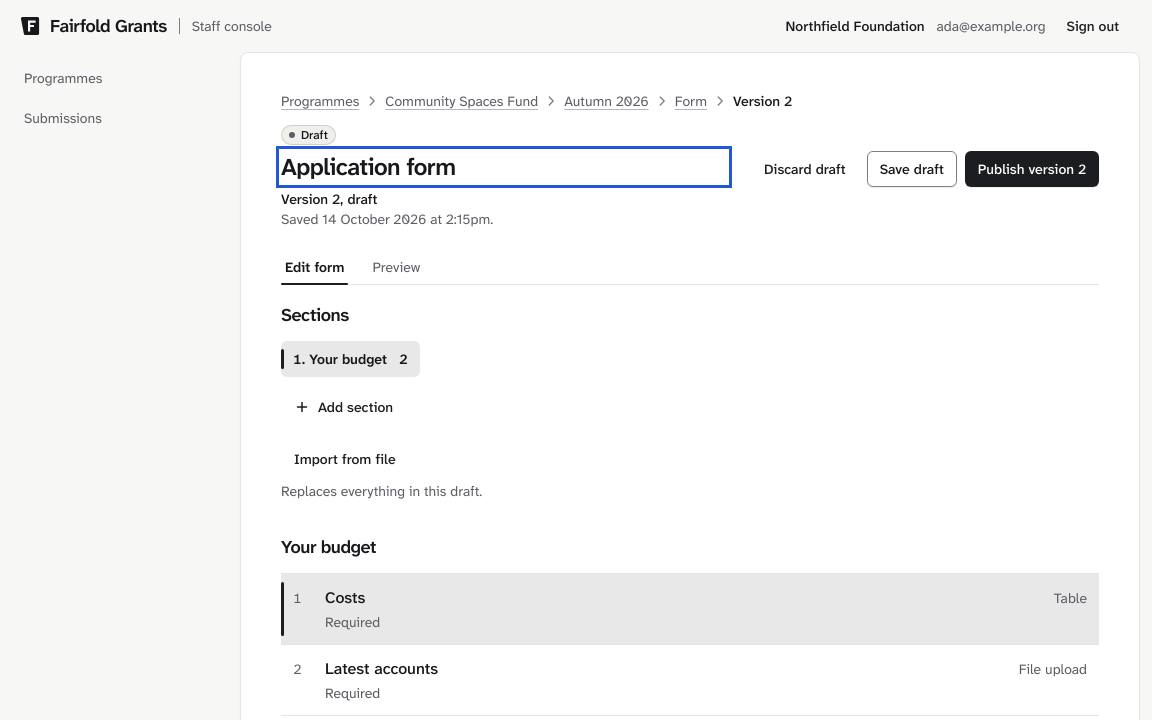
Test: the settings of a file question › are the types as labelled checkboxes, the largest file in megabytes and the most files, as saved
The image size is (1152, 720).
Expected: the heading "Application form" is shown, [281,151,455,183]
Expected: the text "Version 2, draft" is shown, [281,190,377,208]
Click the button "2 Latest accounts File upload Required": (381, 668) [281,645,1099,715]
(page scrolled)
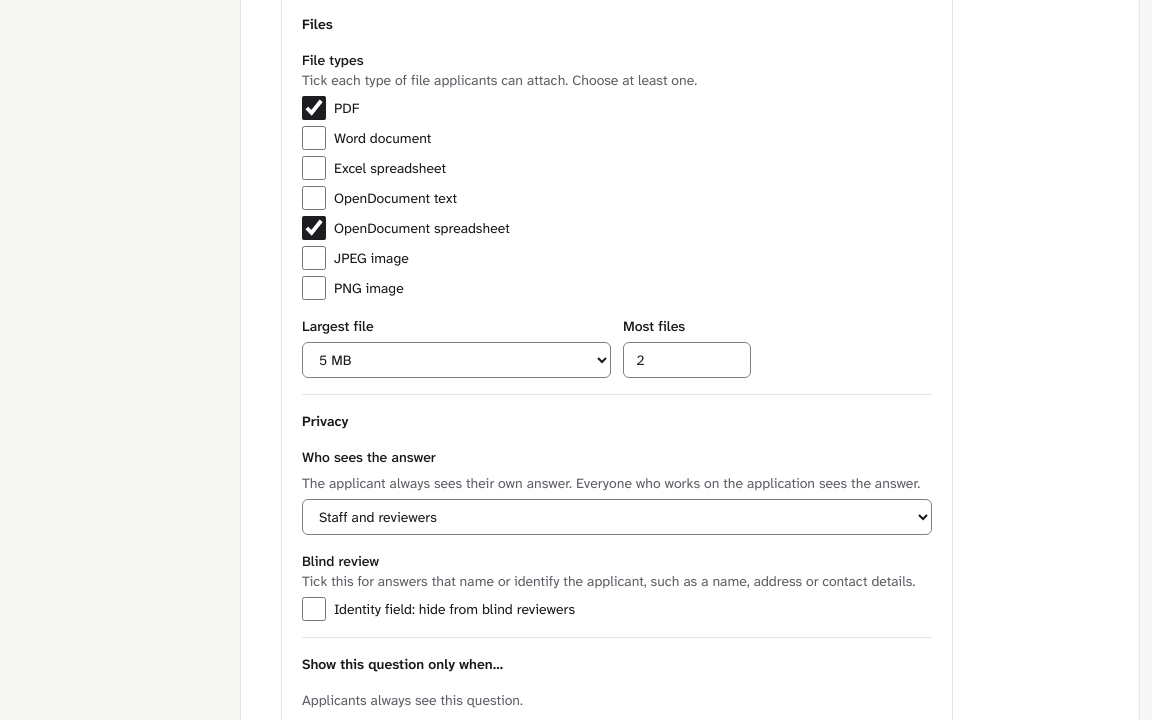
Result: the checkbox labelled "PDF" is checked at [302,96,326,120]
Result: the checkbox labelled "OpenDocument spreadsheet" is checked at [302,216,326,240]
Result: the checkbox labelled "Word document" is not checked at [302,126,326,150]
